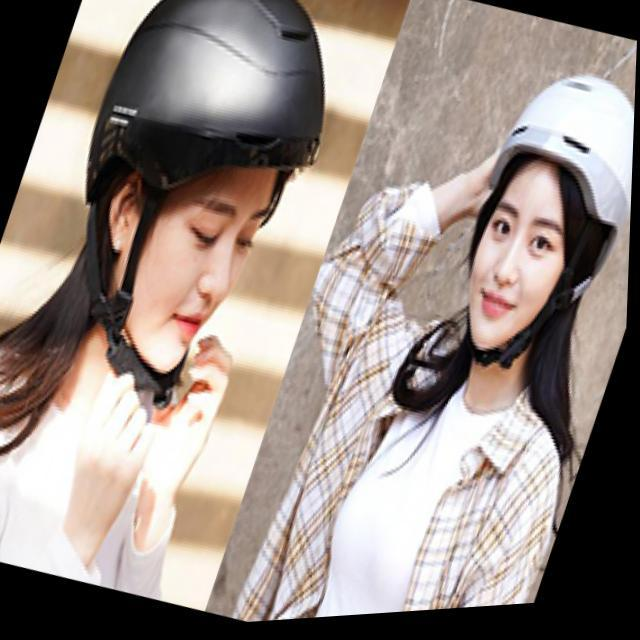Helmet: (79, 4, 329, 382), (432, 57, 627, 378)
